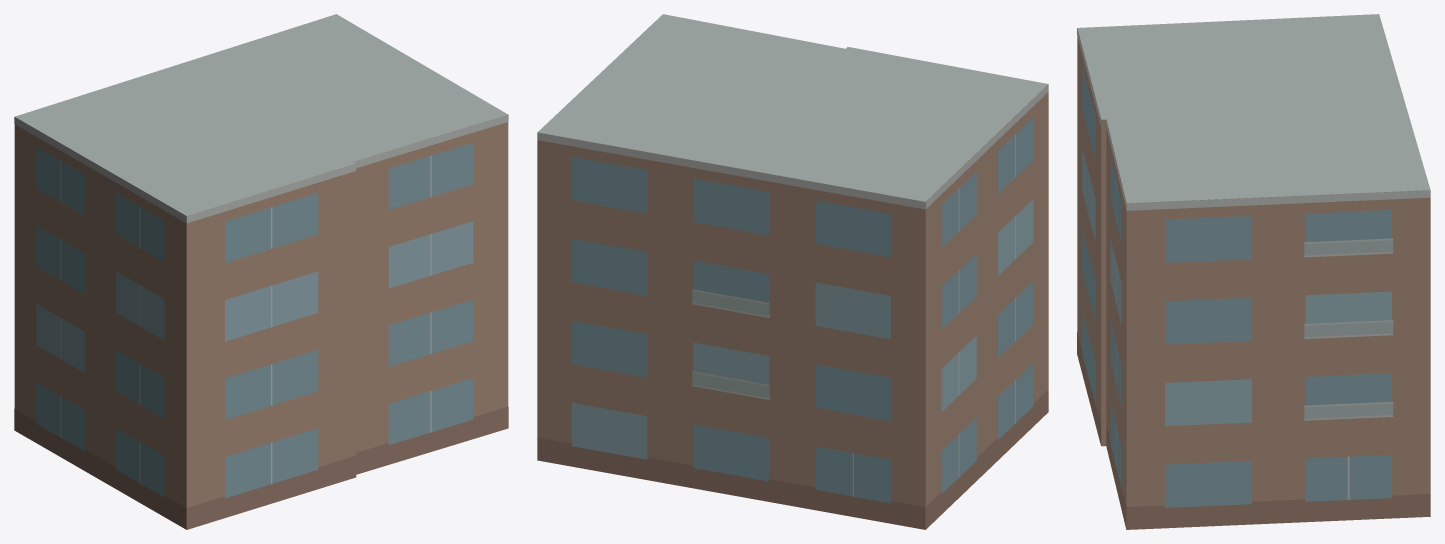
Rendered from survey-upis-32780570.glb.
The picture shows the model from 3 angles, left to right: view 1: azimuth 30°, elevation 25°; view 2: azimuth 150°, elevation 25°; view 3: azimuth 270°, elevation 25°; orthographic projection. The views are drawn at different scales.
Parts seen in each view (by area): view 1: survey-upis-32780570.tmp; view 2: survey-upis-32780570.tmp; view 3: survey-upis-32780570.tmp.
Part boxes in pixels (x1,y1,x2,y2): survey-upis-32780570.tmp: (14, 14, 508, 529); survey-upis-32780570.tmp: (537, 14, 1048, 529); survey-upis-32780570.tmp: (1077, 14, 1430, 529).
Size of the model in its own units: 13.06 by 10.5 by 10.31.
